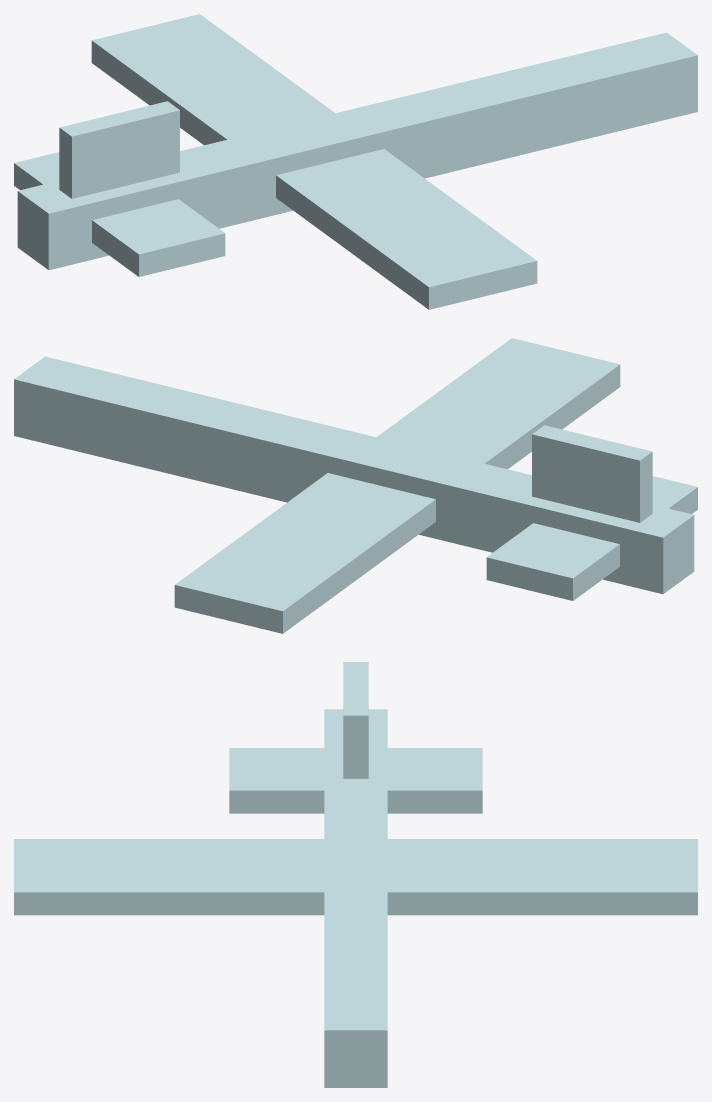
Rendered from aircraft.gltf.
3 views of the same model, one above another, from view 1: azimuth 30°, elevation 25°; view 2: azimuth 150°, elevation 25°; view 3: azimuth 270°, elevation 25° (orthographic).
Size of the model in its own units: 30 by 5.25 by 27.
